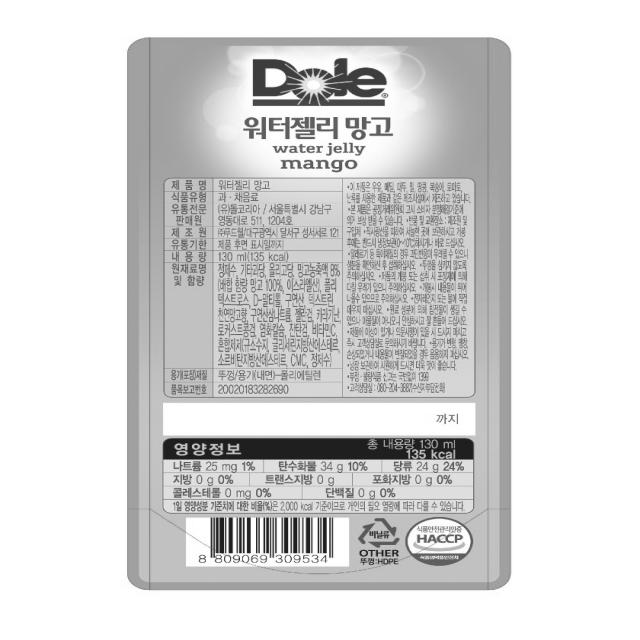Nutrition Label: (160, 434, 478, 515)
